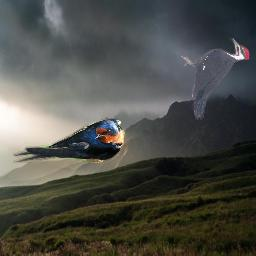Swallow: (13, 118, 126, 163)
Woodpecker: (180, 38, 251, 120)
